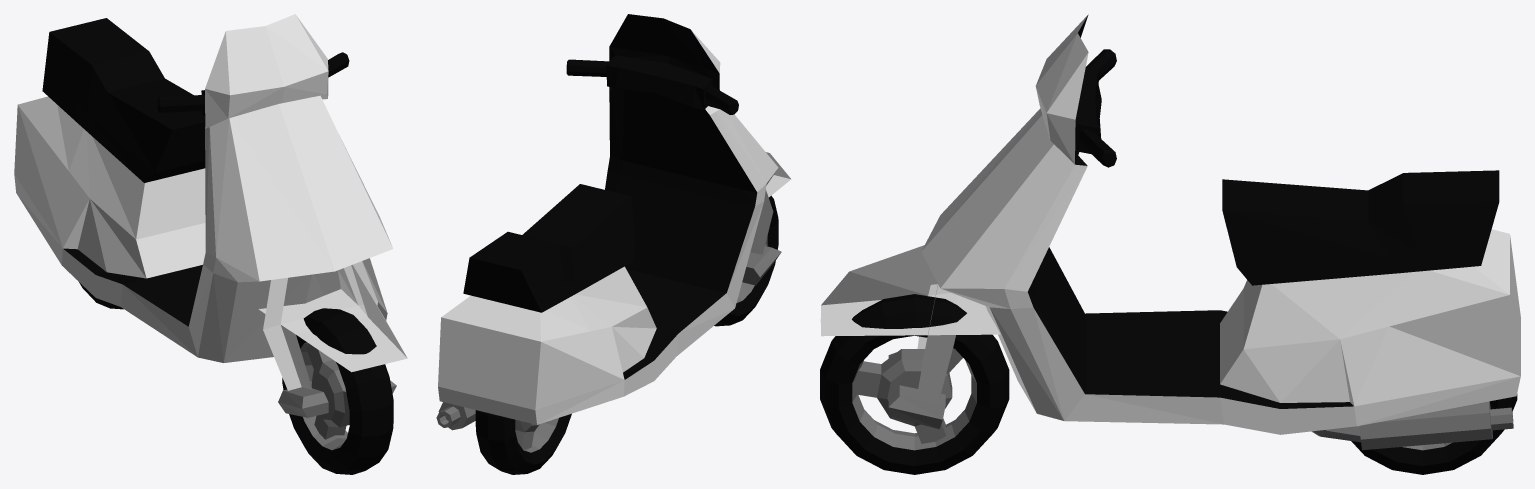
The model's file is scooter.glb.
3 views of the same model, side by side, from view 1: azimuth 30°, elevation 25°; view 2: azimuth 150°, elevation 25°; view 3: azimuth 270°, elevation 25° (orthographic). The views are drawn at different scales.
Parts seen in each view (by area): view 1: Scooter; view 2: Scooter; view 3: Scooter.
Part boxes in pixels (x1=…): Scooter: x1=14, y1=14, x2=407, y2=474; Scooter: x1=436, y1=14, x2=791, y2=474; Scooter: x1=820, y1=14, x2=1520, y2=474.
Bounding box in the file's own units: 42.39 × 82.91 × 120.
Materials: 1 (1 with a texture image).
